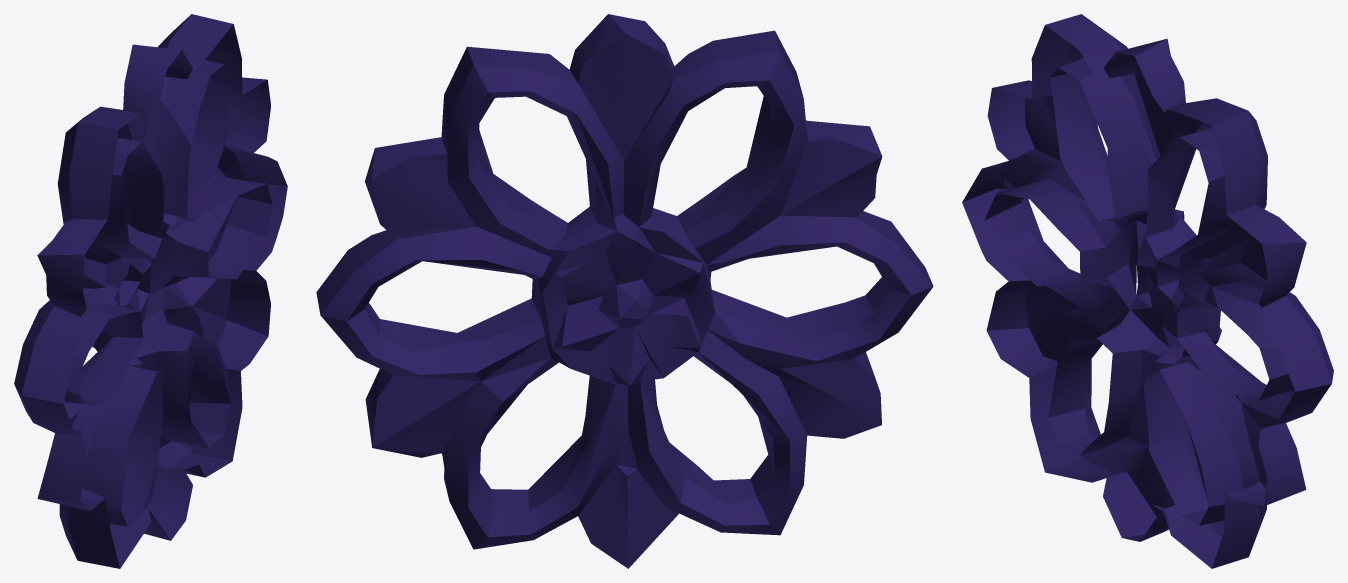
3 renders of one model, left to right at view 1: azimuth 30°, elevation 25°; view 2: azimuth 150°, elevation 25°; view 3: azimuth 270°, elevation 25°, orthographic. The views are drawn at different scales.
Parts seen in each view (by area): view 1: SM_gateSQwall002_002; view 2: SM_gateSQwall002_002; view 3: SM_gateSQwall002_002.
Boxes of the visible parts, x1,y1,x2,y2 form: SM_gateSQwall002_002: [14, 14, 287, 568]; SM_gateSQwall002_002: [316, 14, 933, 568]; SM_gateSQwall002_002: [962, 14, 1333, 568].
Size of the model in its own units: 41.75 by 46.85 by 32.03.
